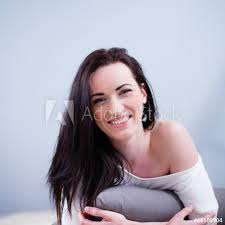white_female: (89, 48, 137, 153)
